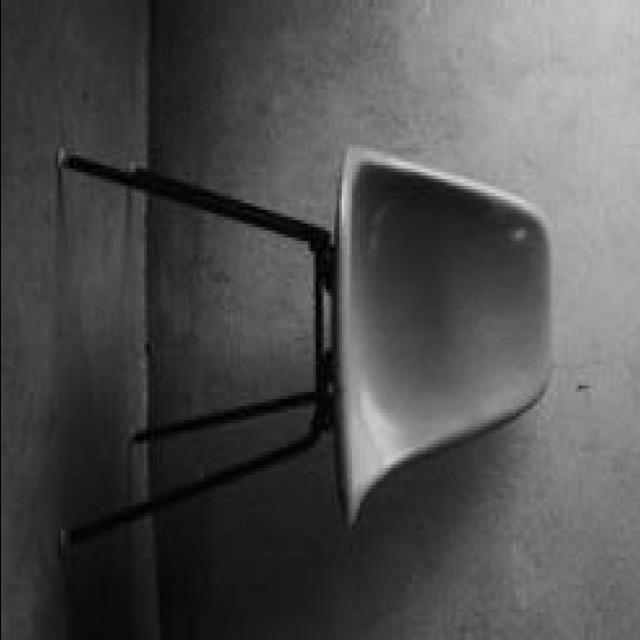chair: (56, 134, 557, 555)
